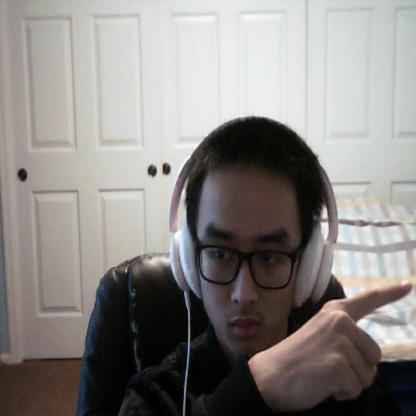finger_point: (340, 280, 414, 320)
